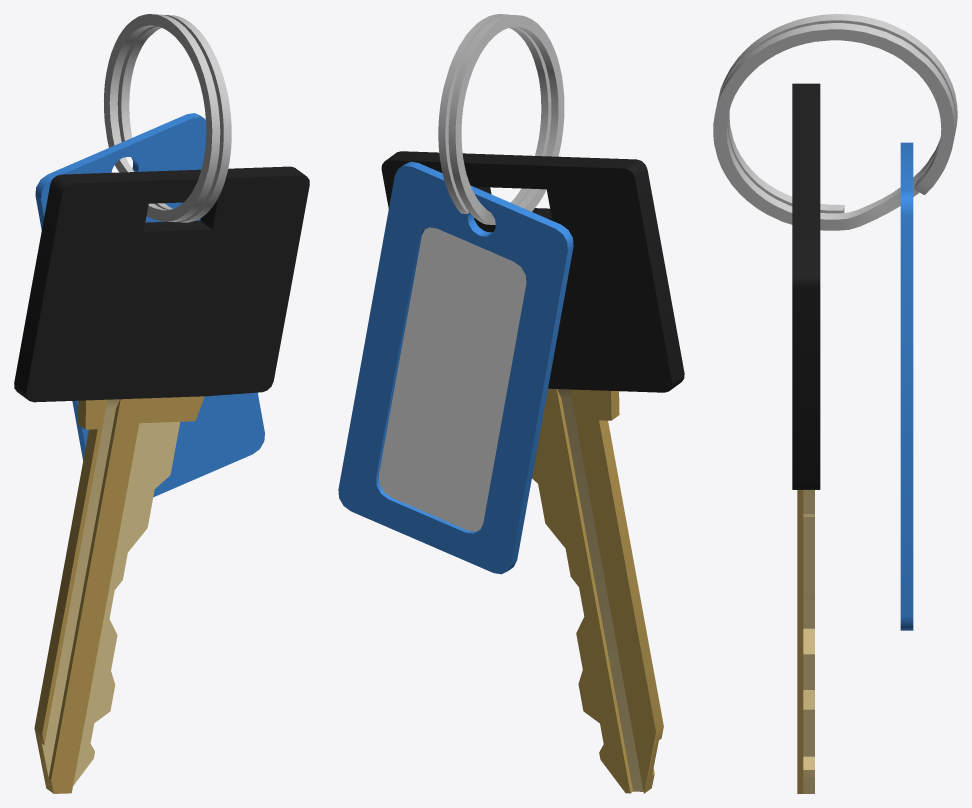
File: Key13_with_tag.fbx
3 renders of one model, left to right at view 1: azimuth 30°, elevation 25°; view 2: azimuth 150°, elevation 25°; view 3: azimuth 270°, elevation 25°, orthographic. The views are drawn at different scales.
Parts seen in each view (by area): view 1: Key13_with_tag.001; view 2: Key13_with_tag.001; view 3: Key13_with_tag.001.
Part boxes in pixels (x1,y1,x2,y2): Key13_with_tag.001: (14, 14, 309, 793); Key13_with_tag.001: (338, 14, 684, 793); Key13_with_tag.001: (713, 14, 957, 793).
Size of the model in its own units: 0.497 by 1.22 by 0.3187.
